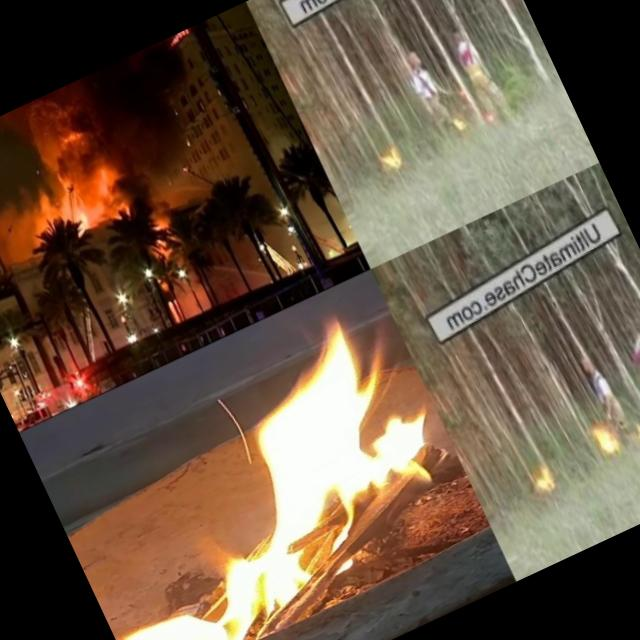fire: (19, 268, 491, 640), (54, 178, 100, 238), (80, 172, 130, 222), (585, 411, 626, 462), (526, 449, 564, 501), (378, 140, 408, 174), (448, 106, 472, 134)
smoke: (15, 78, 122, 192), (0, 175, 74, 268)
